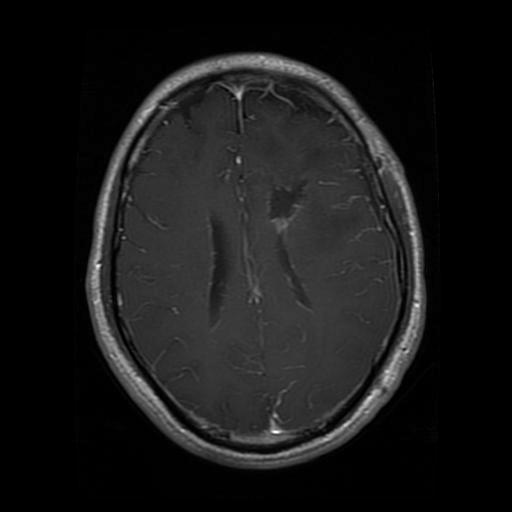Tumour-Glioma: (247, 163, 334, 242)
